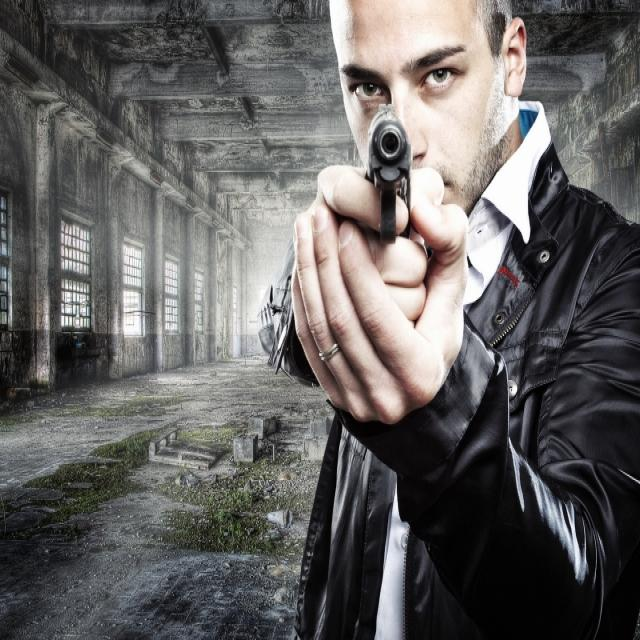HandGun: (363, 105, 412, 240)
